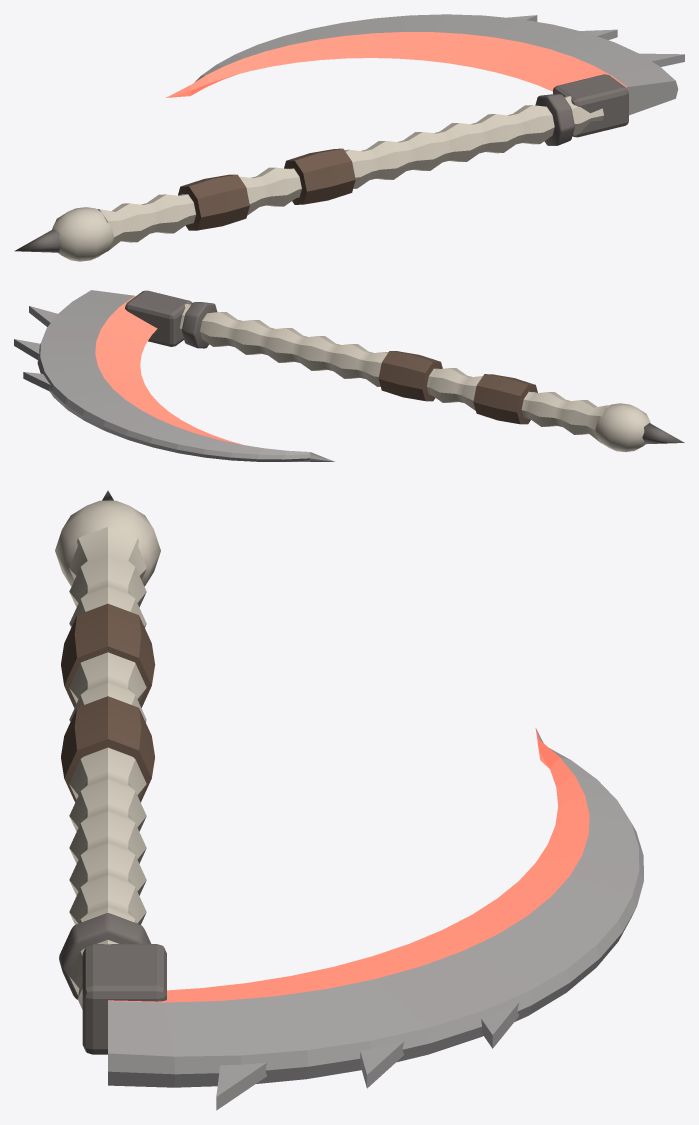
Rendered from reaper_scythe.glb.
The picture shows the model from 3 angles, top to bottom: view 1: azimuth 30°, elevation 25°; view 2: azimuth 150°, elevation 25°; view 3: azimuth 270°, elevation 25°; orthographic projection. The views are drawn at different scales.
Parts seen in each view (by area): view 1: reaper_scythe; view 2: reaper_scythe; view 3: reaper_scythe.
Boxes of the visible parts, <box> form: reaper_scythe: <box>14,14,684,261</box>; reaper_scythe: <box>14,290,684,461</box>; reaper_scythe: <box>55,490,643,1110</box>.
Size of the model in its own units: 1.72 by 0.1165 by 0.6993.
